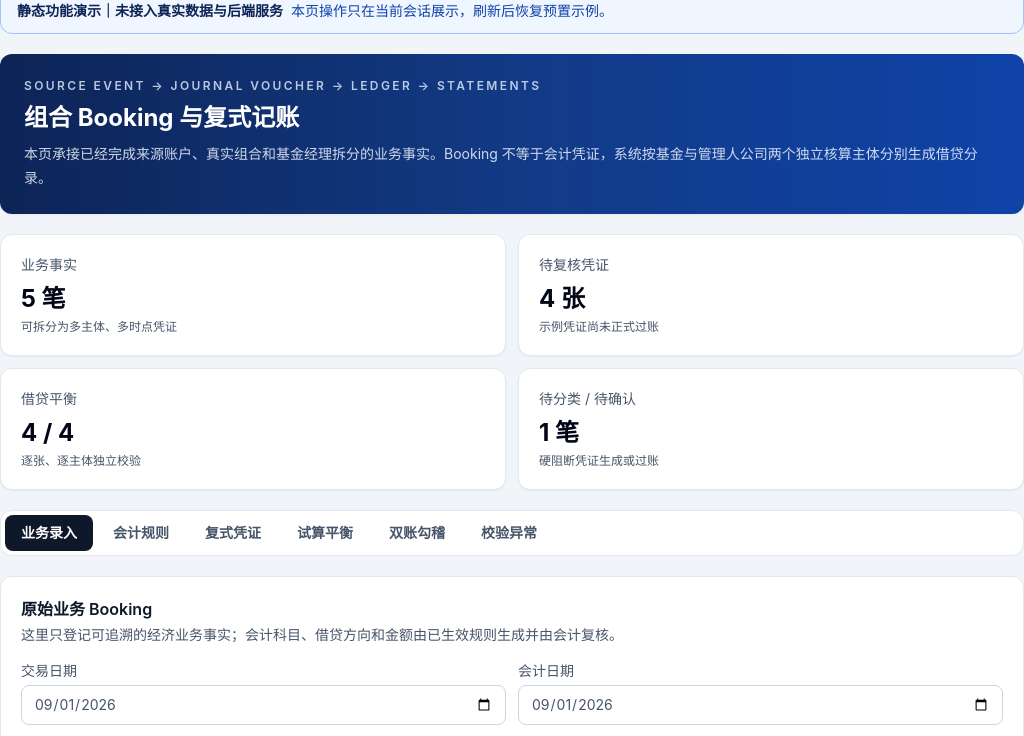
Scenario: AccountingBookingWorkspace › 会计口径和阻断规则明确标记为非交互说明
Click the button "会计规则".
click(141, 533)  # box [97,515,185,551]
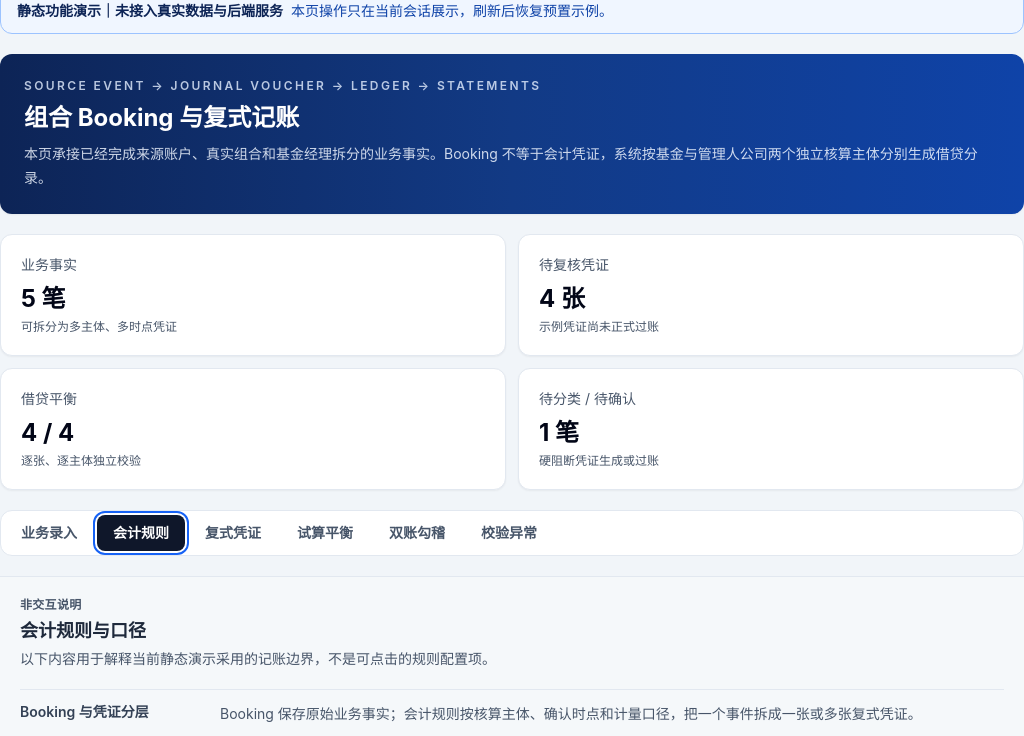
Click the button "校验异常".
click(509, 533)  # box [465,515,553,551]
(page scrolled)
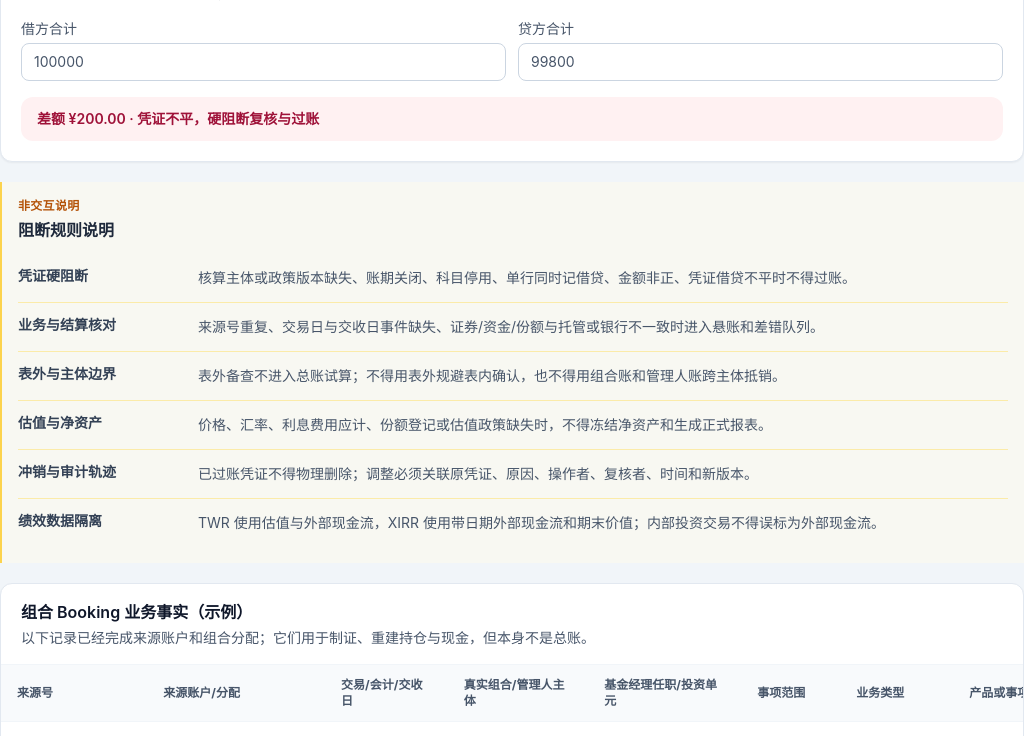
Expected: the element named "阻断规则说明（非交互）" is shown, [0,182,1023,563]
